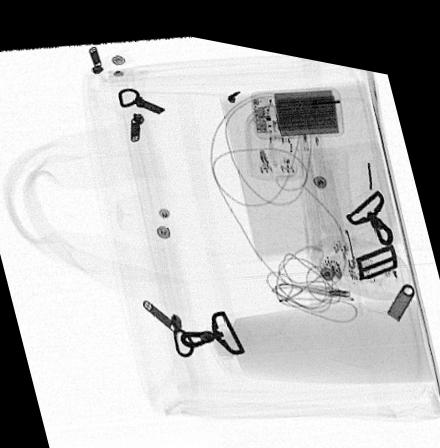Powerbank: (250, 73, 346, 130)
